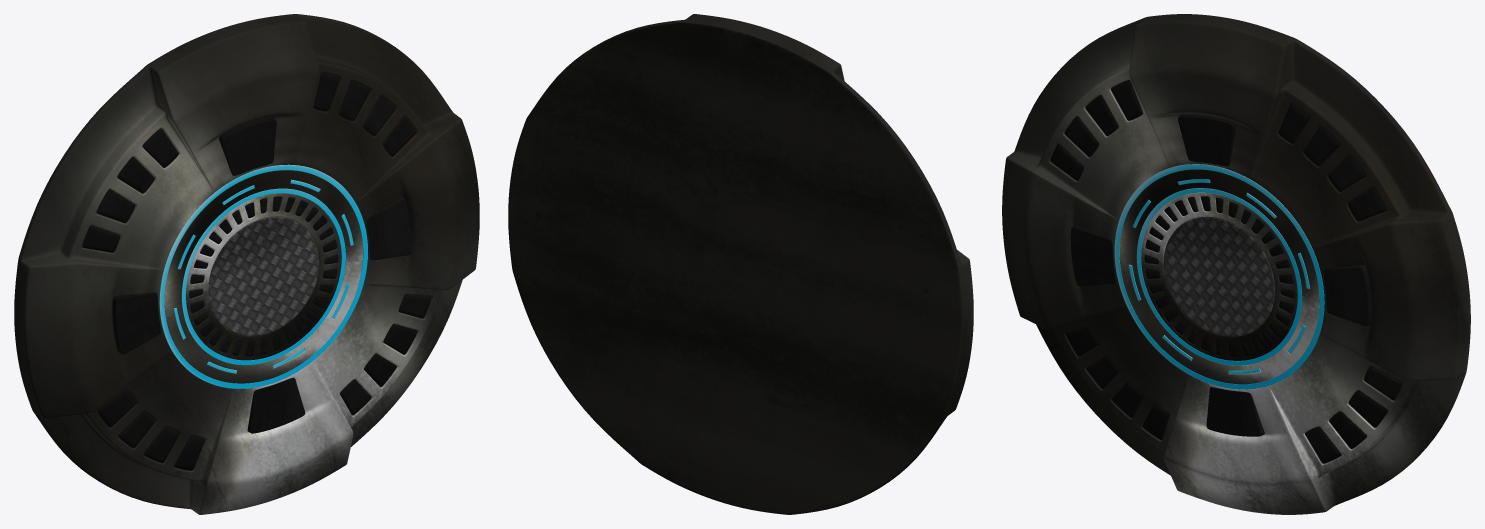
The model's file is 14021_Teleportation_Pad_v1_l2.obj.
3 views of the same model, side by side, from view 1: azimuth 30°, elevation 25°; view 2: azimuth 150°, elevation 25°; view 3: azimuth 330°, elevation 25° (orthographic).
Parts seen in each view (by area): view 1: teleportation_pad; view 2: teleportation_pad; view 3: teleportation_pad.
Boxes of the visible parts, box(x1,y1,x2,y2) form: teleportation_pad: box(14, 14, 479, 514); teleportation_pad: box(508, 14, 973, 514); teleportation_pad: box(1002, 14, 1470, 514).
Size of the model in its own units: 114 by 114 by 10.05.
Materials: 1 (1 with a texture image).
